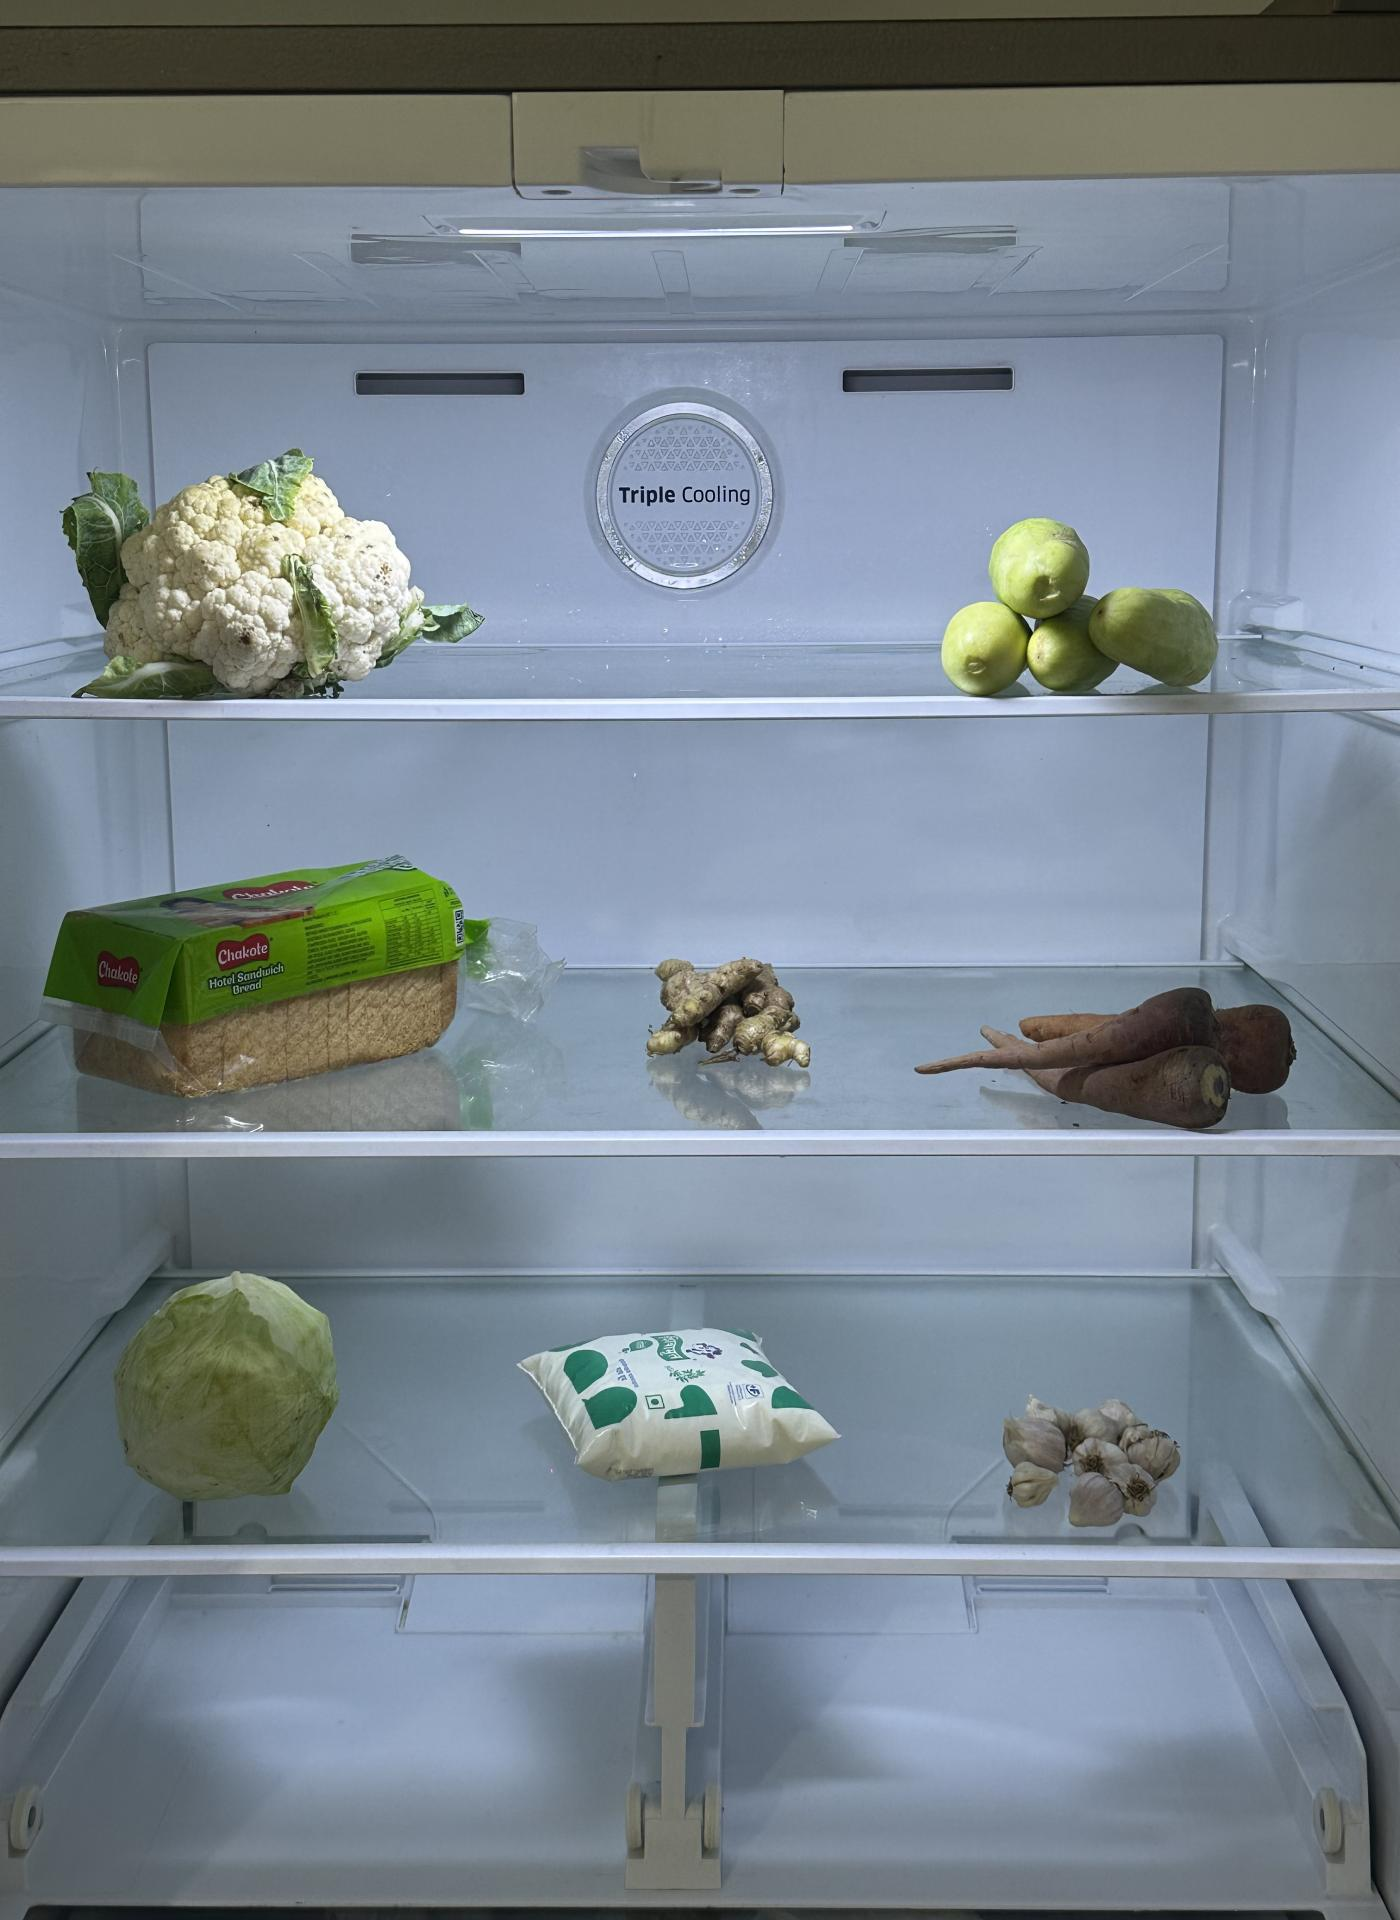bread: (47, 863, 502, 1096)
cabbage: (112, 1258, 328, 1500)
carrots: (978, 982, 1317, 1134)
cauliflower: (66, 434, 476, 715)
cucumber: (941, 501, 1232, 707)
garlic: (987, 1396, 1187, 1538)
ginger: (640, 939, 821, 1107)
milk: (532, 1301, 832, 1503)
